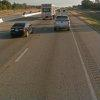Car: (8, 14, 33, 38)
